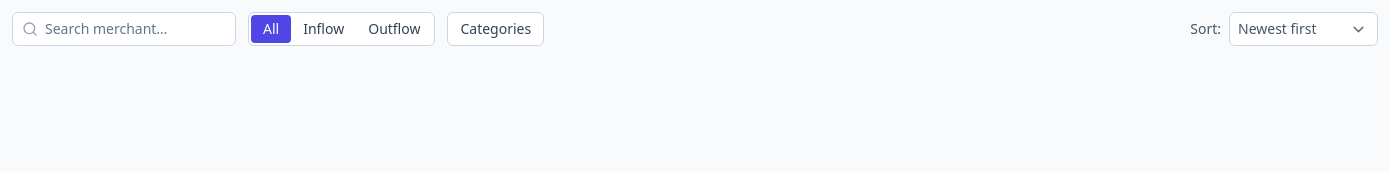
Test: Filters › shows raw codes when the category names fail to load
Click the heading "Categories" at (496, 29), box [448, 12, 544, 46]
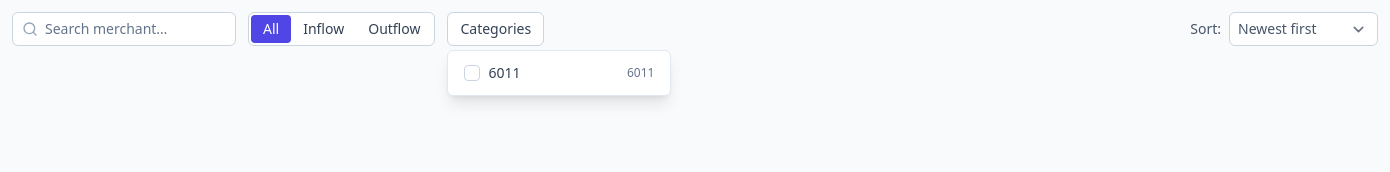
expect the text "6011" is shown 2 times: met, box [488, 63, 520, 82]; [627, 65, 654, 81]
